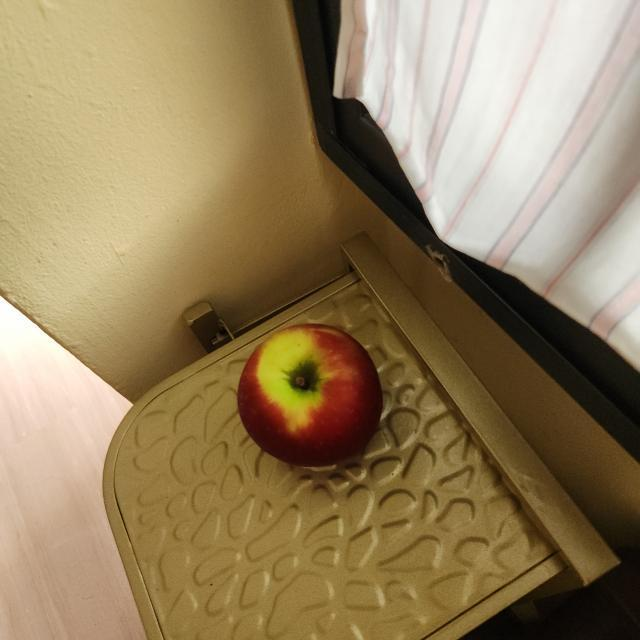apple: (230, 314, 390, 480)
